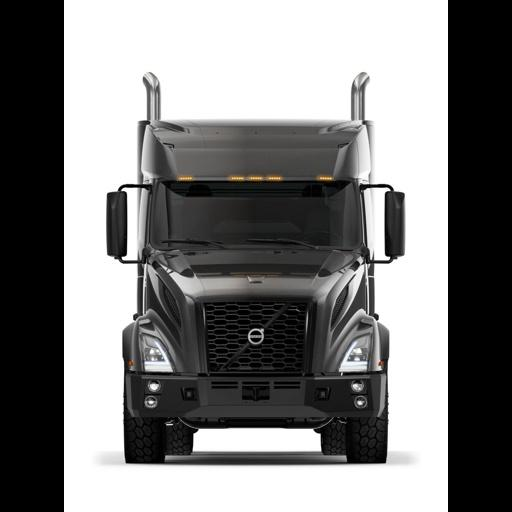truck: (107, 74, 406, 466)
